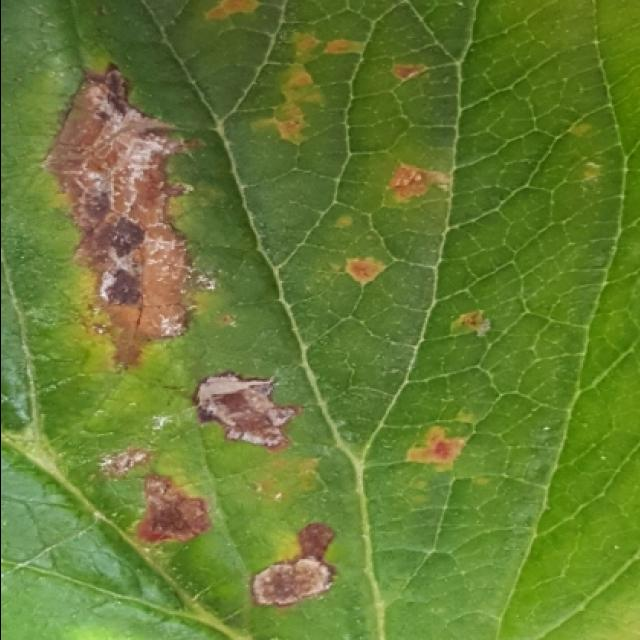Angular Leafspot: (38, 0, 605, 616)
